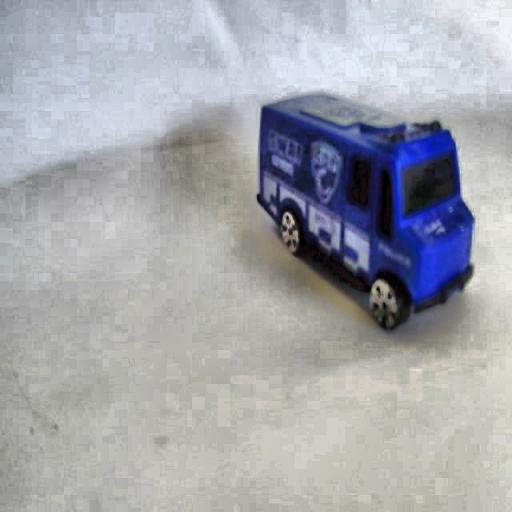police car: (252, 84, 478, 338)
